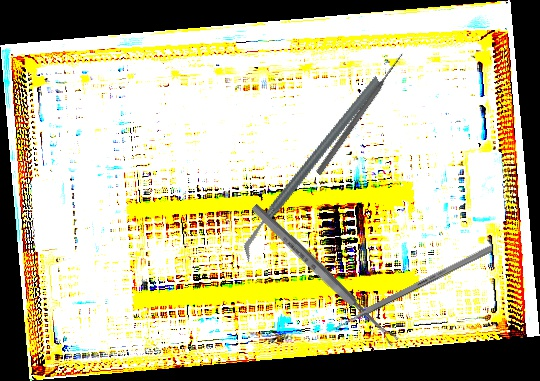Chopper: (199, 75, 425, 262)
Pusher: (319, 245, 494, 338), (314, 50, 407, 177)
Surgical Spoon: (249, 202, 400, 348)
